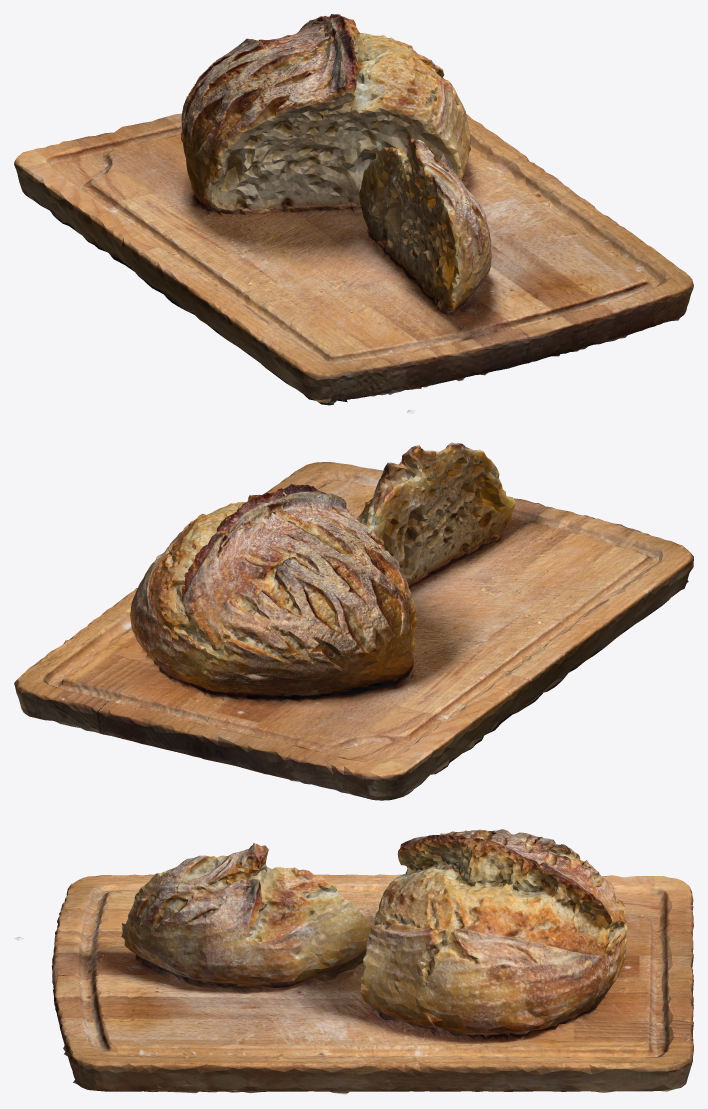
Rendered from hlebandroid.glb.
3 renders of one model, top to bottom at view 1: azimuth 30°, elevation 25°; view 2: azimuth 150°, elevation 25°; view 3: azimuth 270°, elevation 25°, orthographic.
Visible parts, largest first — view 1: Mesh_0; view 2: Mesh_0; view 3: Mesh_0.
Boxes of the visible parts, <box> form: Mesh_0: <box>14,14,693,413</box>; Mesh_0: <box>14,442,693,800</box>; Mesh_0: <box>14,829,693,1094</box>.
Bounding box in the file's own units: 0.2821 × 0.1237 × 0.4215.
Materials: 1 (1 with a texture image).
